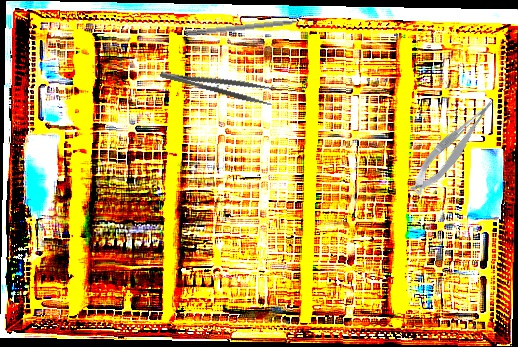Dressing Forceps: (159, 59, 276, 108)
Hook Surgical: (185, 17, 314, 38)
Micro Scissor: (400, 94, 508, 200)
